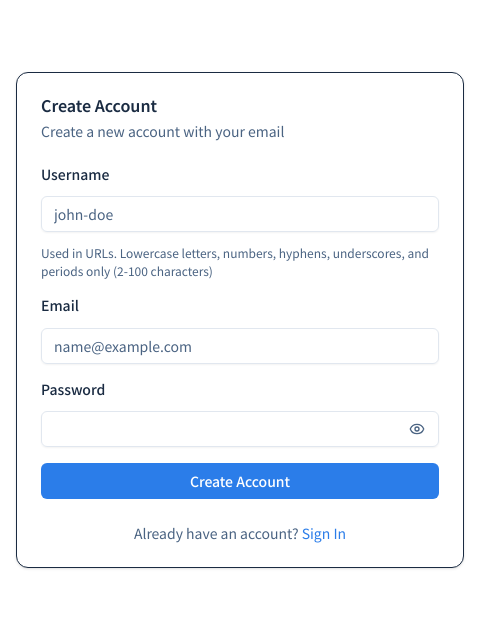
Test: SignUpPage › should show validation errors for empty submission
Click the button "Create Account".
click(240, 481)  # box [41,463,439,499]
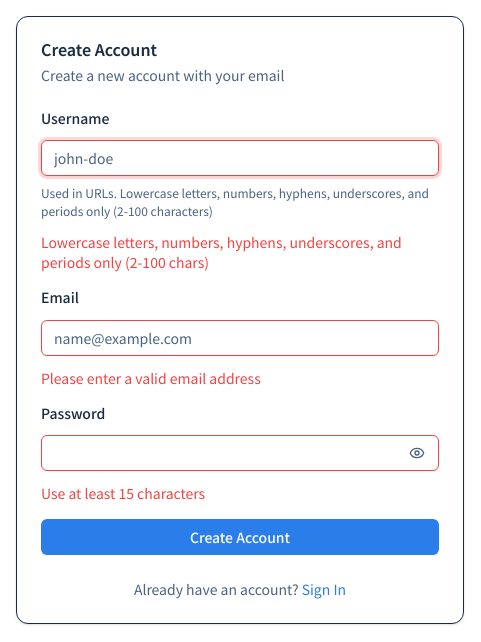
Expected: the text "Please enter a valid email address" is shown, [41,368,261,388]
